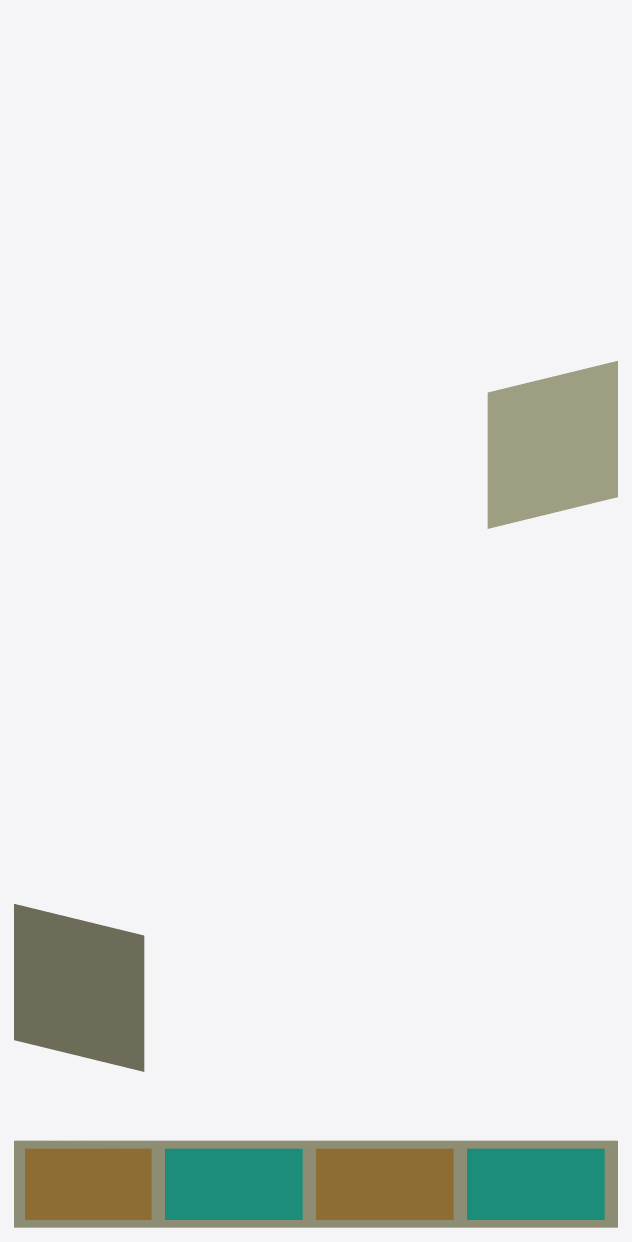
3 renders of one model, top to bottom at view 1: azimuth 30°, elevation 25°; view 2: azimuth 150°, elevation 25°; view 3: azimuth 270°, elevation 25°, orthographic. The views are drawn at different scales.
Parts seen in each view (by area): view 1: Joint_0_Object_0; view 2: Joint_0_Object_0; view 3: Joint_0_Object_0.
Boxes of the visible parts, <box> form: Joint_0_Object_0: <box>487,361,617,528</box>; Joint_0_Object_0: <box>14,904,144,1071</box>; Joint_0_Object_0: <box>14,1140,617,1227</box>.
Size of the model in its own units: 770 by 770 by 4846.
